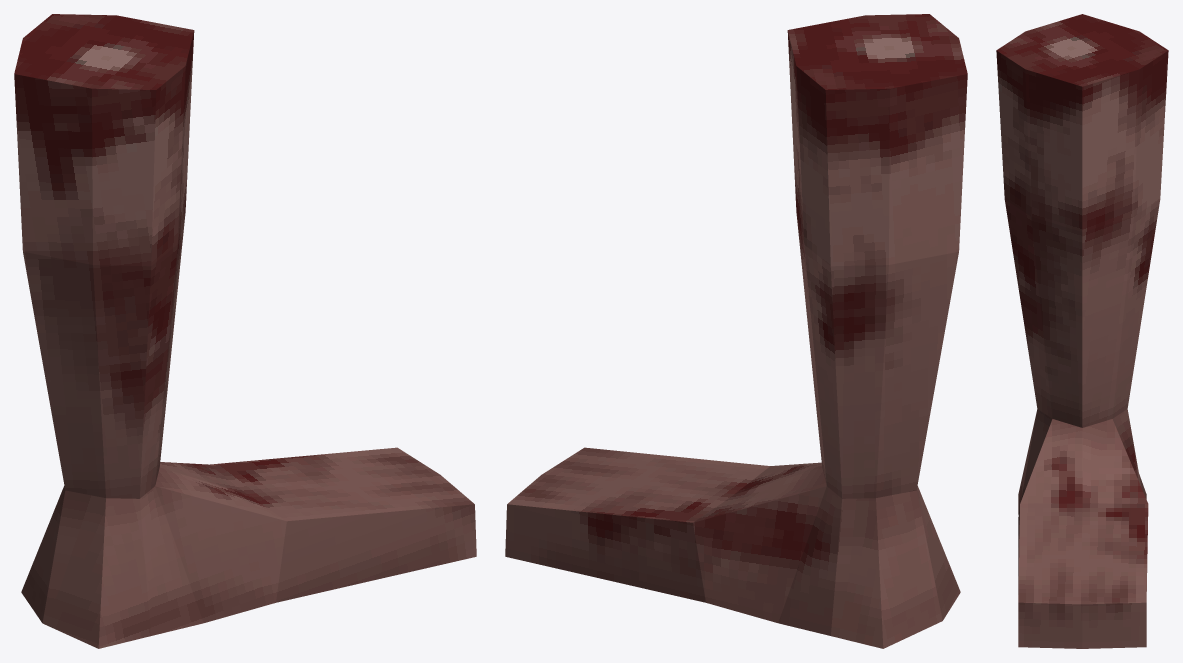
File: severed_leg.glb
3 views of the same model, side by side, from view 1: azimuth 30°, elevation 25°; view 2: azimuth 150°, elevation 25°; view 3: azimuth 270°, elevation 25° (orthographic). The views are drawn at different scales.
Parts seen in each view (by area): view 1: severed_leg; view 2: severed_leg; view 3: severed_leg.
Boxes of the visible parts, x1,y1,x2,y2 form: severed_leg: [14, 14, 476, 648]; severed_leg: [505, 14, 967, 648]; severed_leg: [996, 14, 1168, 648].
Size of the model in its own units: 0.4821 by 0.6 by 0.2027.
Materials: 1 (1 with a texture image).
